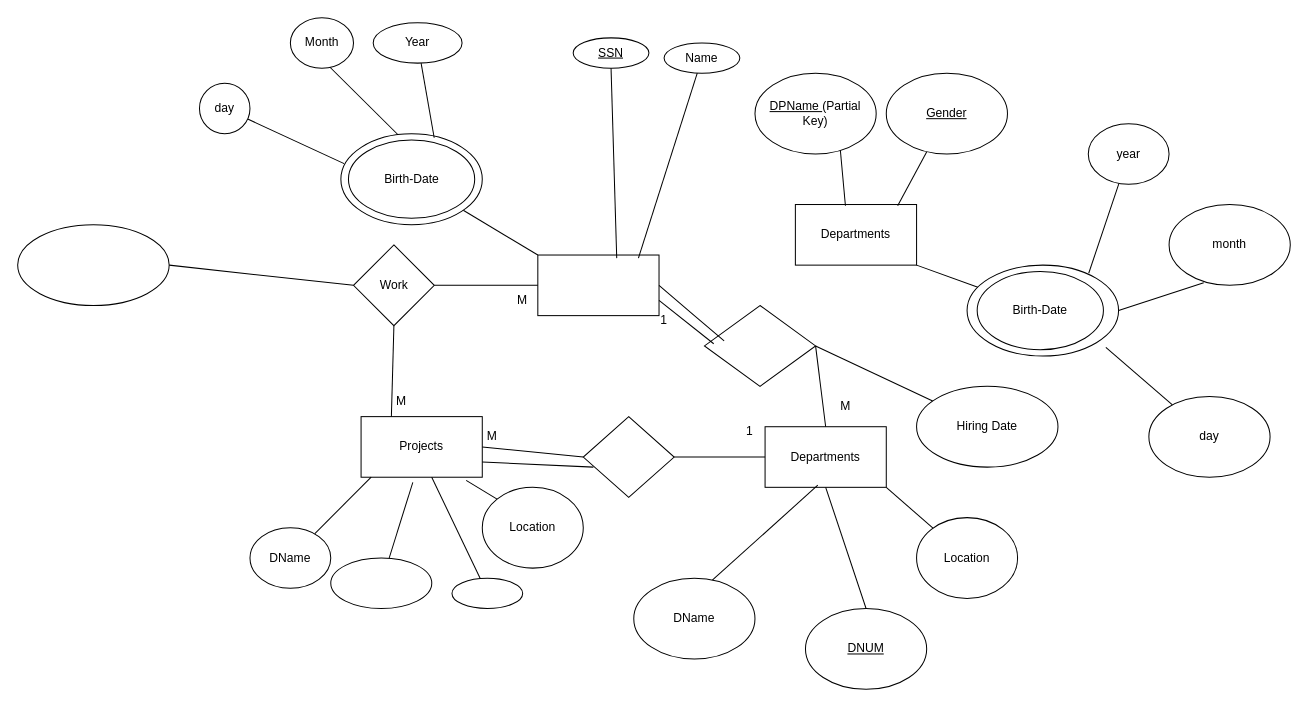
This 1308x707 diagram has some shape labels left out. Each missing label, with the centre of its shape:
Assigend: the point at 628,456
DNumber: the point at 381,583
Employee: the point at 598,285
ID: the point at 487,593
Manage: the point at 759,345
Working hour: the point at 93,265
